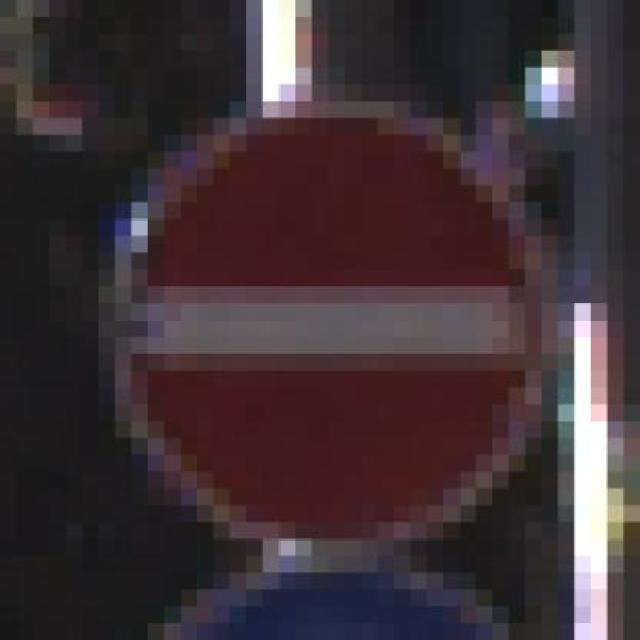B2: (106, 108, 552, 572)
